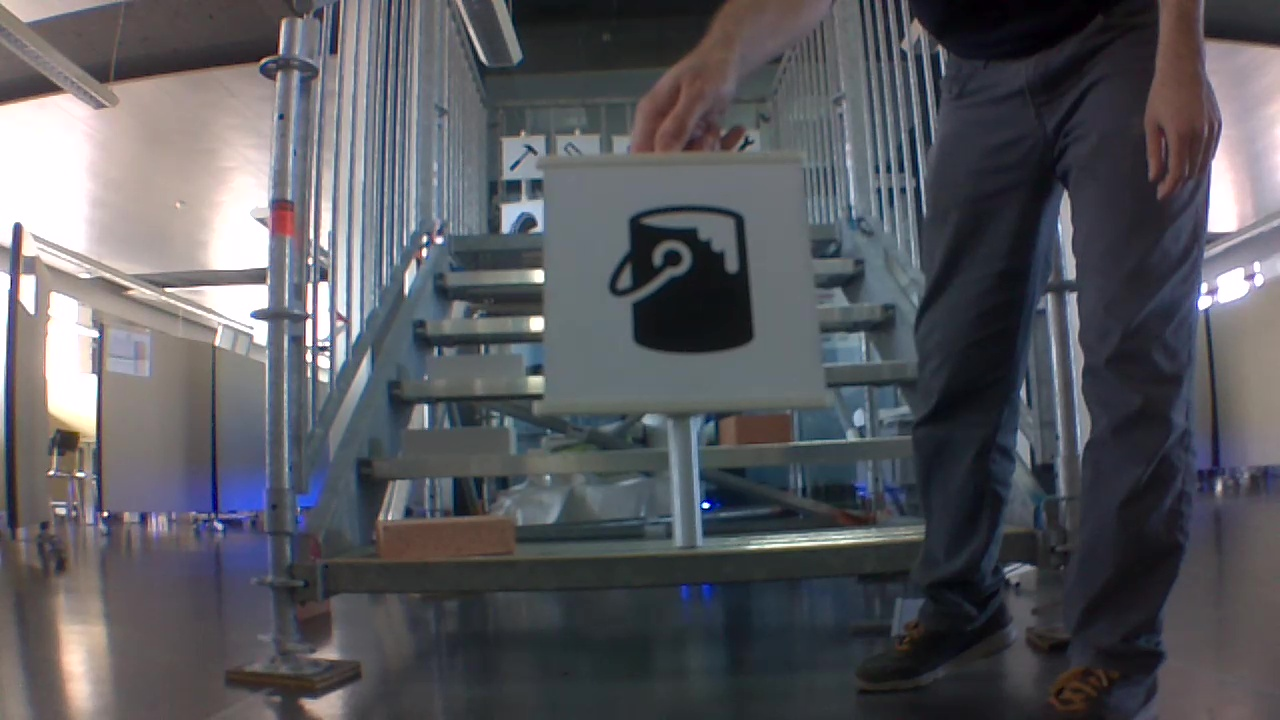brick: (380, 516, 514, 558), (403, 428, 514, 456), (427, 355, 523, 379), (719, 416, 792, 443)
bucket: (601, 195, 767, 359)
hammer: (502, 139, 540, 177)
taco: (506, 209, 540, 234)
